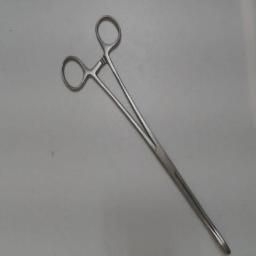Sponge Forceps: (56, 10, 236, 256)
